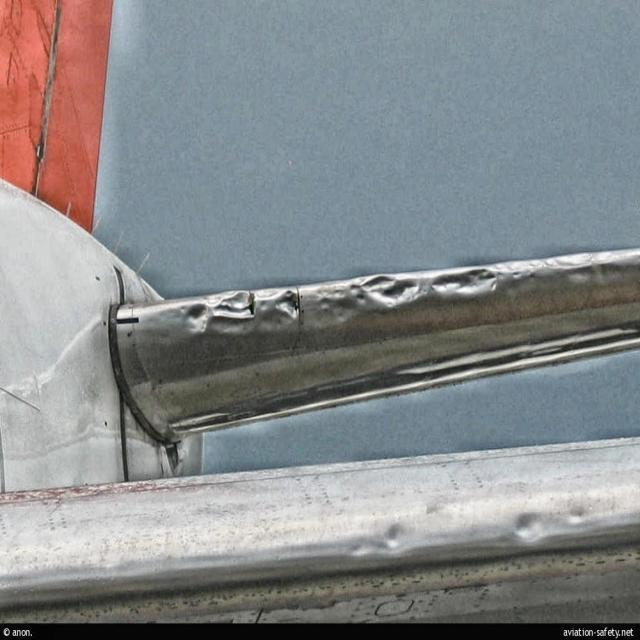dent: (353, 272, 423, 312), (214, 291, 265, 340), (432, 266, 496, 296), (264, 289, 300, 329), (184, 299, 214, 338), (385, 513, 415, 552), (515, 510, 543, 547)
